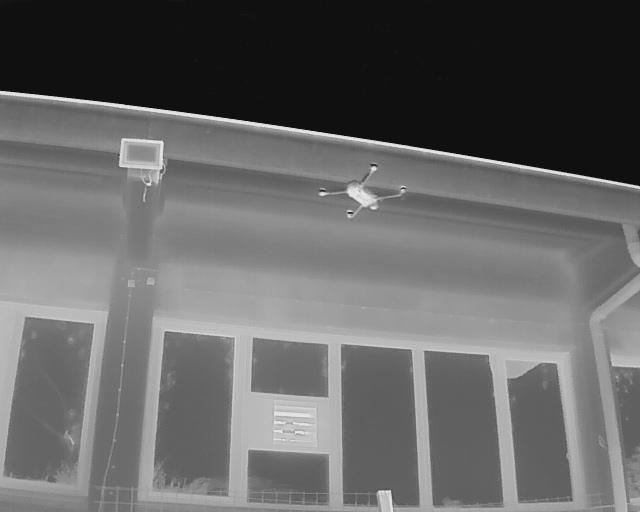drone: (302, 152, 413, 234)
